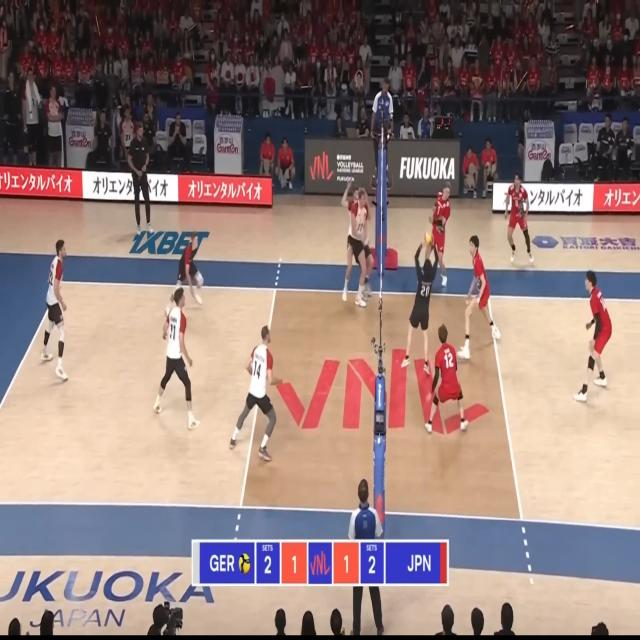ball: (425, 232, 433, 247)
